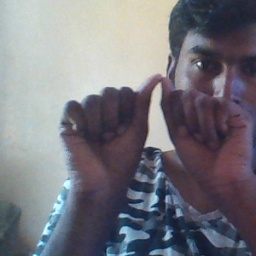A: (63, 71, 256, 173)
